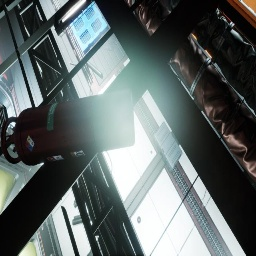FireExtinguisher ]: (207, 0, 220, 16)
NitrogenTank ,: (0, 88, 135, 166)
SafetySwitchPanel ,: (0, 117, 13, 135)
